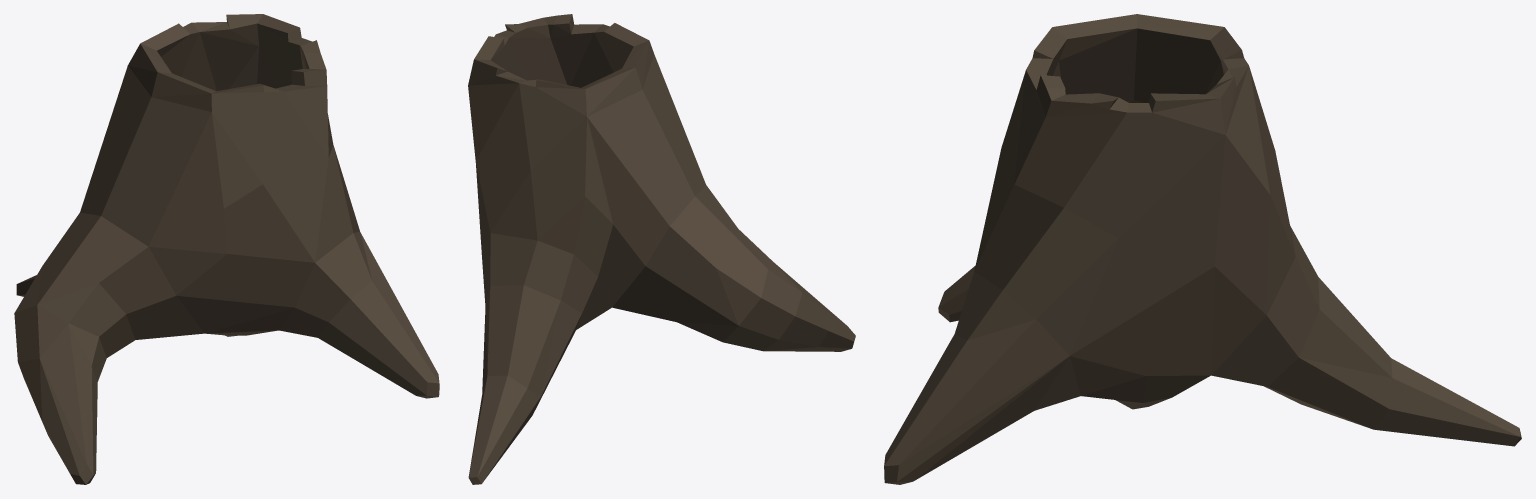
Rendered from FallenLogs3.fbx.
3 renders of one model, left to right at view 1: azimuth 30°, elevation 25°; view 2: azimuth 150°, elevation 25°; view 3: azimuth 270°, elevation 25°, orthographic. The views are drawn at different scales.
Parts seen in each view (by area): view 1: Cube.002; view 2: Cube.002; view 3: Cube.002.
Part boxes in pixels (x1=…): Cube.002: x1=14, y1=14, x2=439, y2=484; Cube.002: x1=468, y1=14, x2=855, y2=484; Cube.002: x1=884, y1=14, x2=1521, y2=484.
Bounding box in the file's own units: 845 × 802 × 1097.
